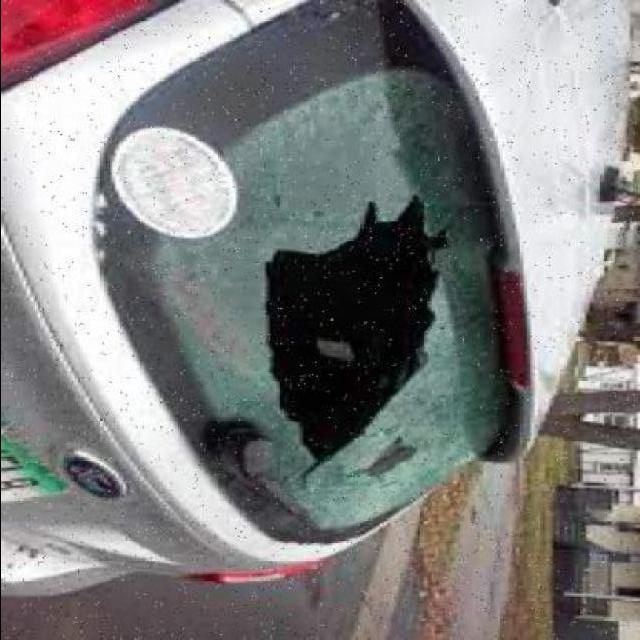Rear-windscreen-Damage: (88, 15, 537, 543)
